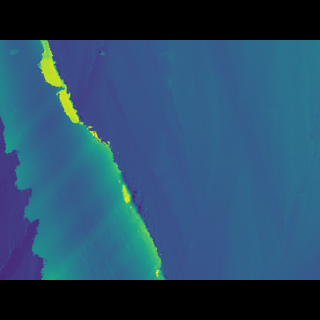Loch: (0, 70, 176, 247)
